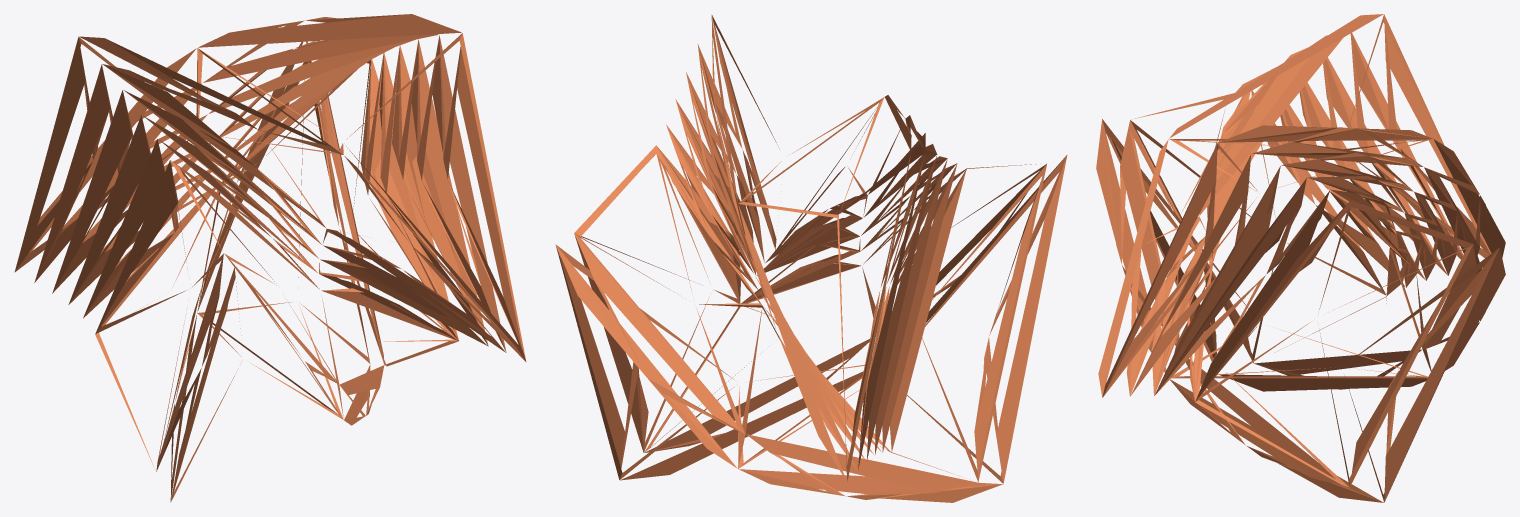
File: Abstract_sculpture.glb
3 renders of one model, left to right at view 1: azimuth 30°, elevation 25°; view 2: azimuth 150°, elevation 25°; view 3: azimuth 270°, elevation 25°, orthographic. The views are drawn at different scales.
Parts seen in each view (by area): view 1: unnamed; view 2: unnamed; view 3: unnamed.
Part boxes in pixels (box(x1,y1,x2,y2)): unnamed: box(14, 14, 526, 502); unnamed: box(555, 15, 1067, 502); unnamed: box(1096, 14, 1505, 502).
Bounding box in the file's own units: 2.4 × 3.24 × 3.23.
